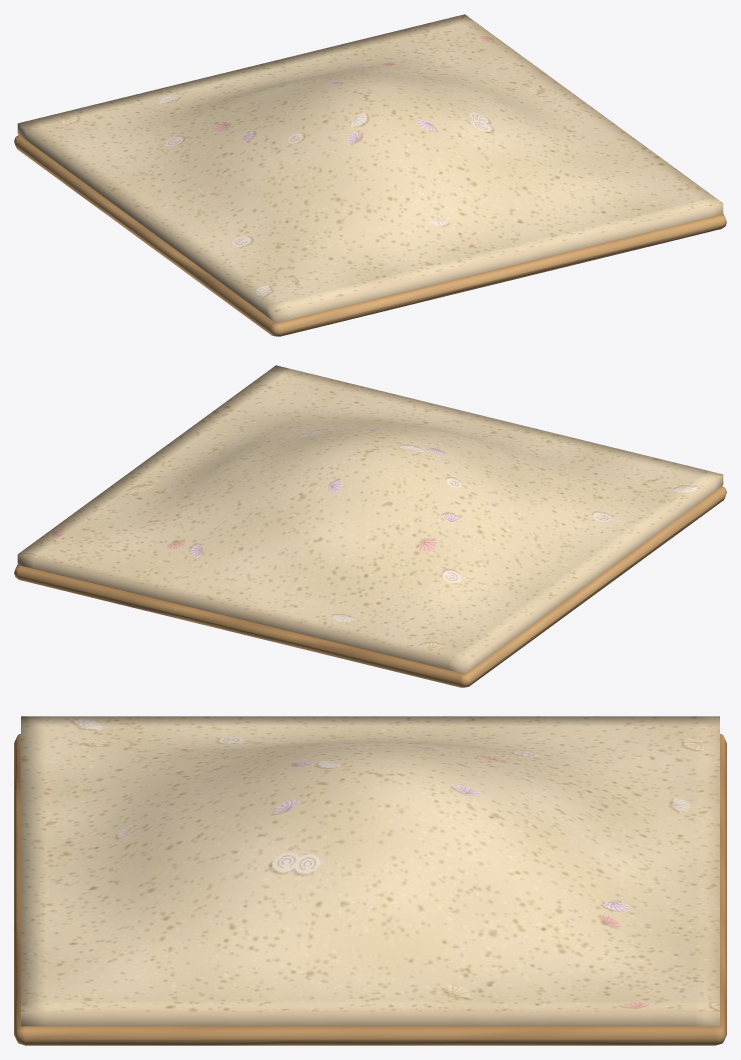
Rendered from tile_sand_mound_a.glb.
3 views of the same model, one above another, from view 1: azimuth 30°, elevation 25°; view 2: azimuth 150°, elevation 25°; view 3: azimuth 270°, elevation 25° (orthographic). The views are drawn at different scales.
Visible parts, largest first — view 1: mound_top, base; view 2: mound_top, base; view 3: mound_top, base.
Boxes of the visible parts, x1,y1,x2,y2 form: mound_top: (17,14,723,322); base: (14,135,726,336); mound_top: (17,365,723,673); base: (14,486,726,687); mound_top: (21,716,719,1026); base: (14,734,726,1045).
Size of the model in its own units: 4 by 0.77 by 4.
Materials: 3 (1 with a texture image).
